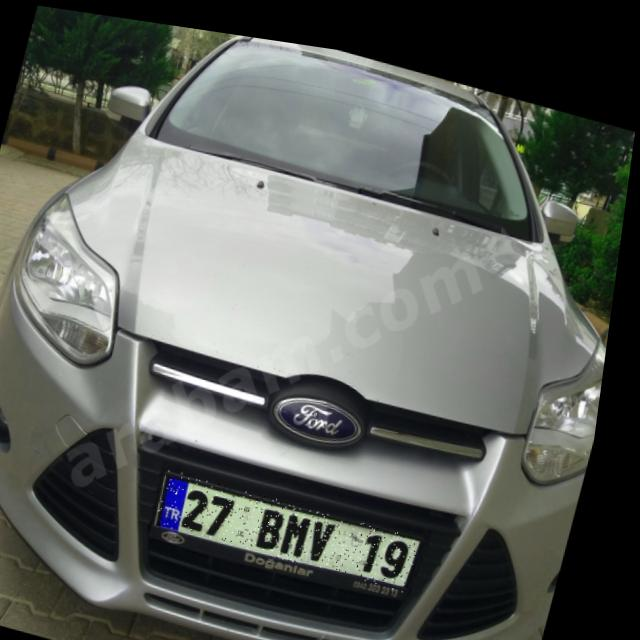license_plate: (164, 462, 438, 580)
